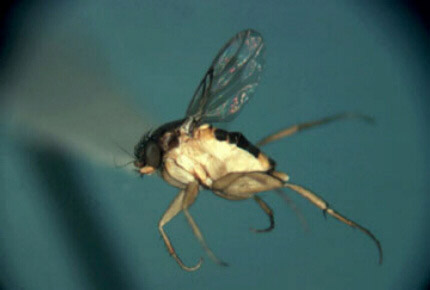phorid fly: (98, 17, 392, 279)
